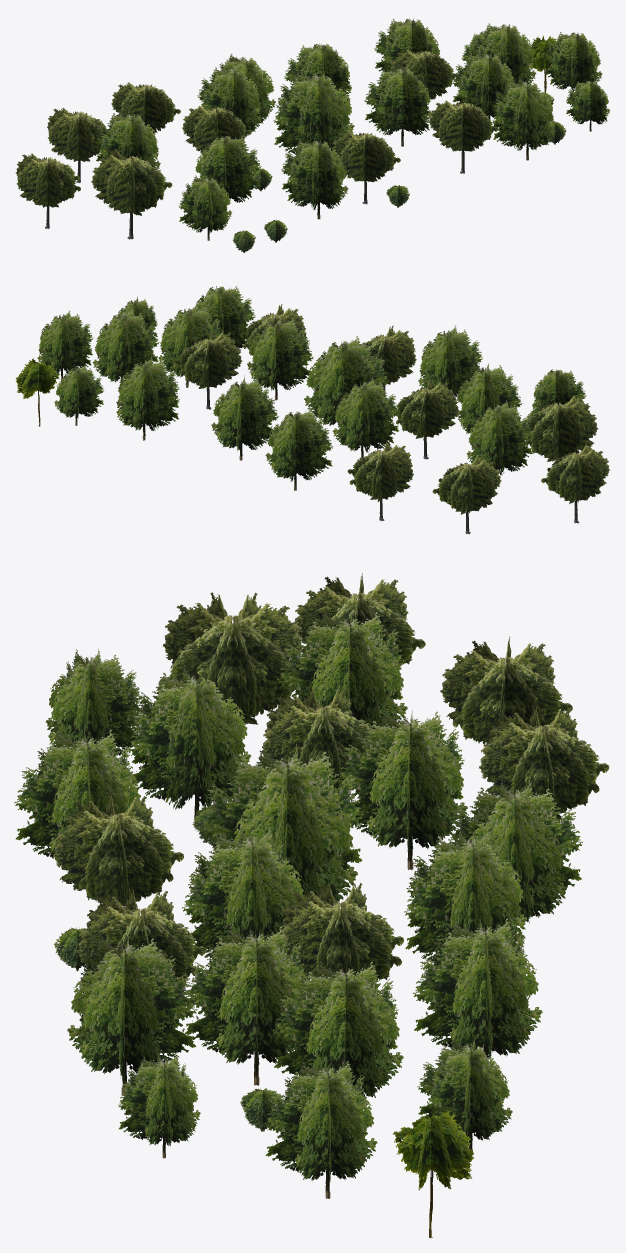
The model's file is ParkTreesChunk3.fbx.
3 views of the same model, one above another, from view 1: azimuth 30°, elevation 25°; view 2: azimuth 150°, elevation 25°; view 3: azimuth 270°, elevation 25° (orthographic). The views are drawn at different scales.
Visible parts, largest first — view 1: TreesPack.002; view 2: TreesPack.002; view 3: TreesPack.002.
Boxes of the visible parts, <box> form: TreesPack.002: <box>15,18,610,252</box>; TreesPack.002: <box>16,286,609,534</box>; TreesPack.002: <box>14,573,609,1237</box>.
Size of the model in its own units: 11443 by 2348 by 5384.
